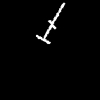double_crochet: (36, 3, 64, 43)
